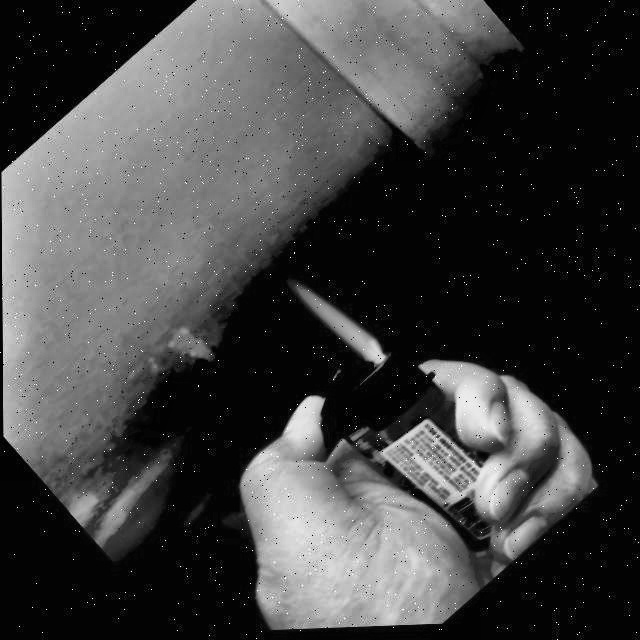Fire: (291, 267, 386, 375)
